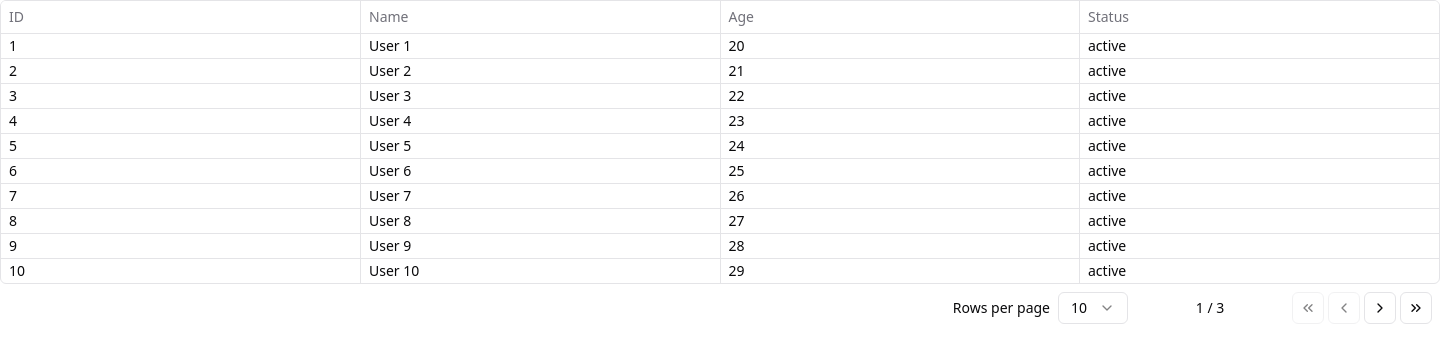
Test: DataTable › should paginate with next/prev buttons
Expected: the text "User 1" is shown, [360, 33, 720, 58]
Expected: the text "User 11" is not shown
Step 1. Click the button named "Next page" → (1380, 308), box [1364, 292, 1396, 324]
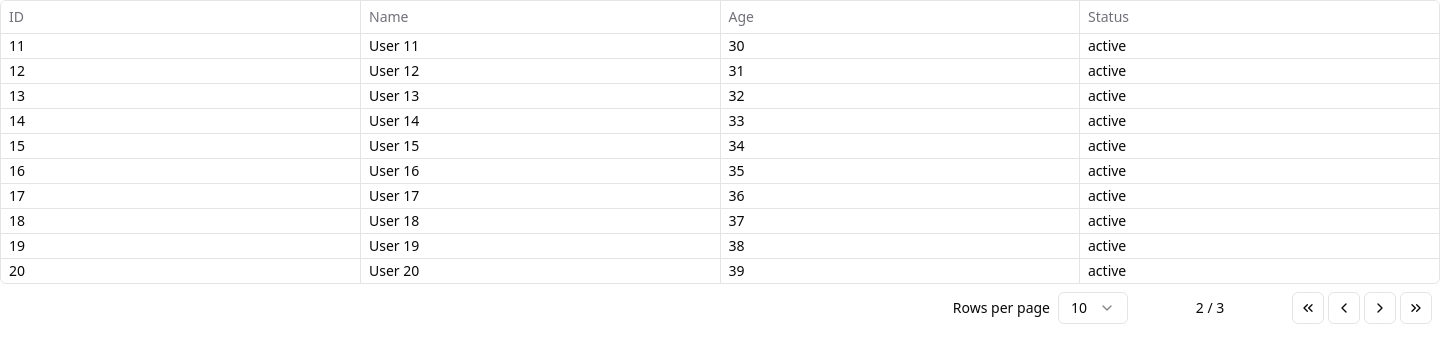
Now the text "User 11" is shown, box [360, 33, 720, 58]
